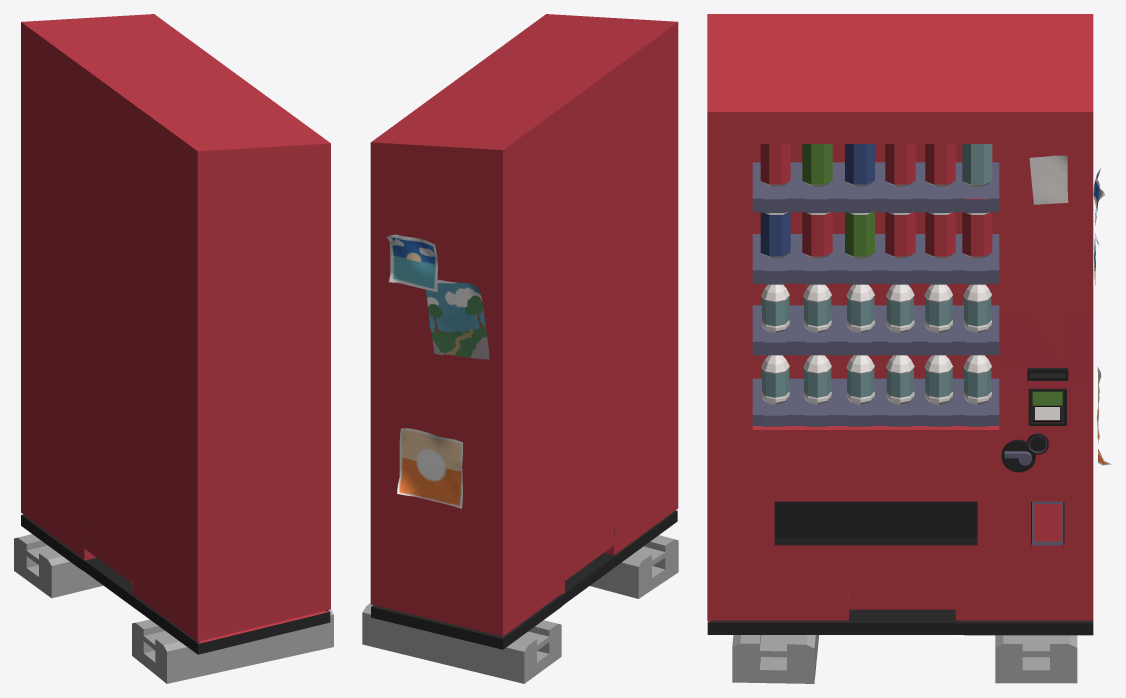
File: VendingMachine.gltf
The picture shows the model from 3 angles, left to right: view 1: azimuth 30°, elevation 25°; view 2: azimuth 150°, elevation 25°; view 3: azimuth 270°, elevation 25°; orthographic projection. The views are drawn at different scales.
Parts seen in each view (by area): view 1: Cube.327; view 2: Cube.327; view 3: Cube.327.
Part boxes in pixels (x1,y1,x2,y2): Cube.327: [14, 14, 333, 683]; Cube.327: [362, 14, 678, 683]; Cube.327: [707, 14, 1110, 683].
Size of the model in its own units: 0.1463 by 0.4554 by 0.2831.
Materials: 5 (4 with a texture image).
